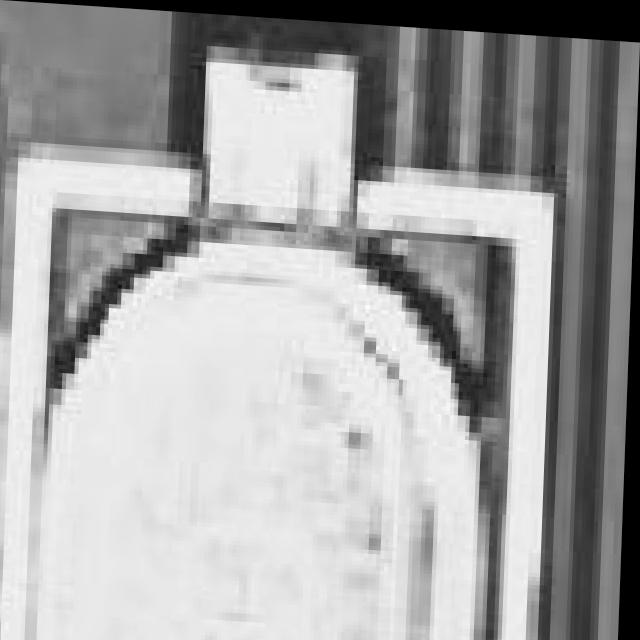clock: (25, 150, 536, 640)
